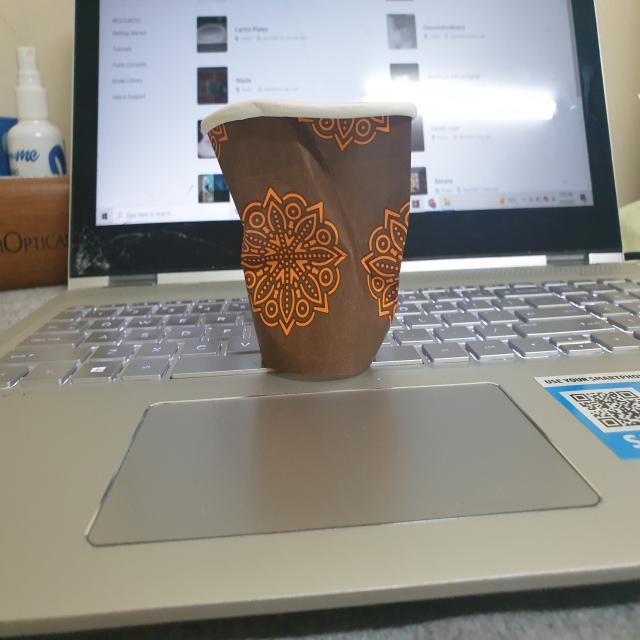cups: (196, 85, 430, 393)
